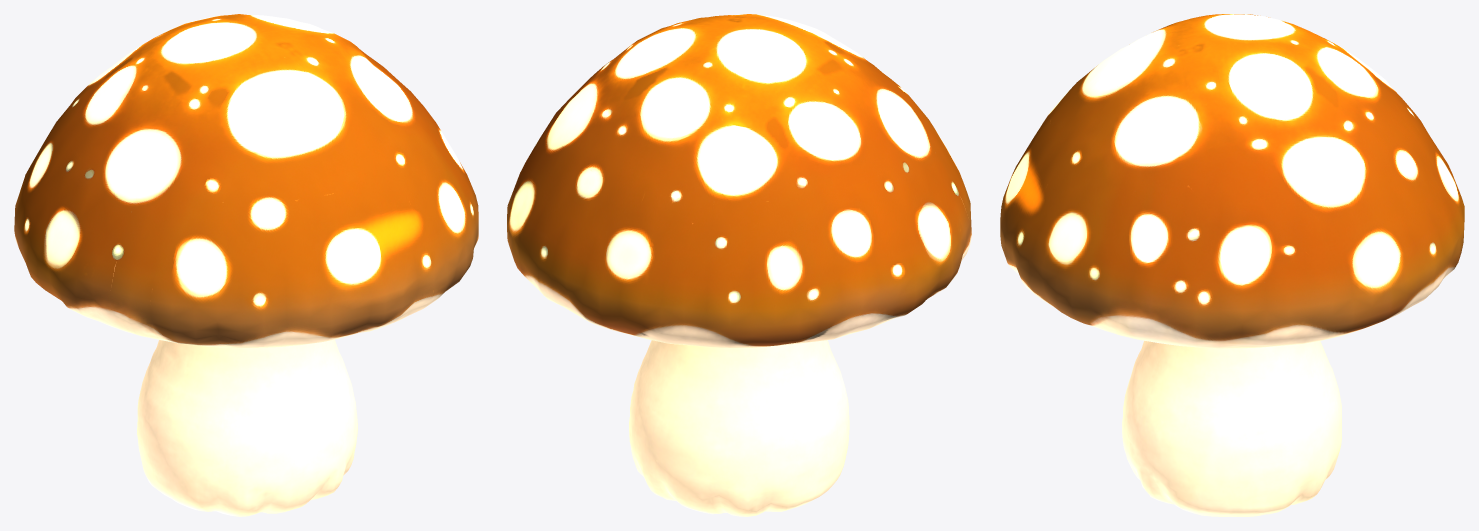
The model's file is mushroom_lamp.glb.
The picture shows the model from 3 angles, left to right: view 1: azimuth 30°, elevation 25°; view 2: azimuth 150°, elevation 25°; view 3: azimuth 270°, elevation 25°; orthographic projection.
Size of the model in its own units: 1.75 by 1.91 by 1.75.
Materials: 1 (1 with a texture image).
